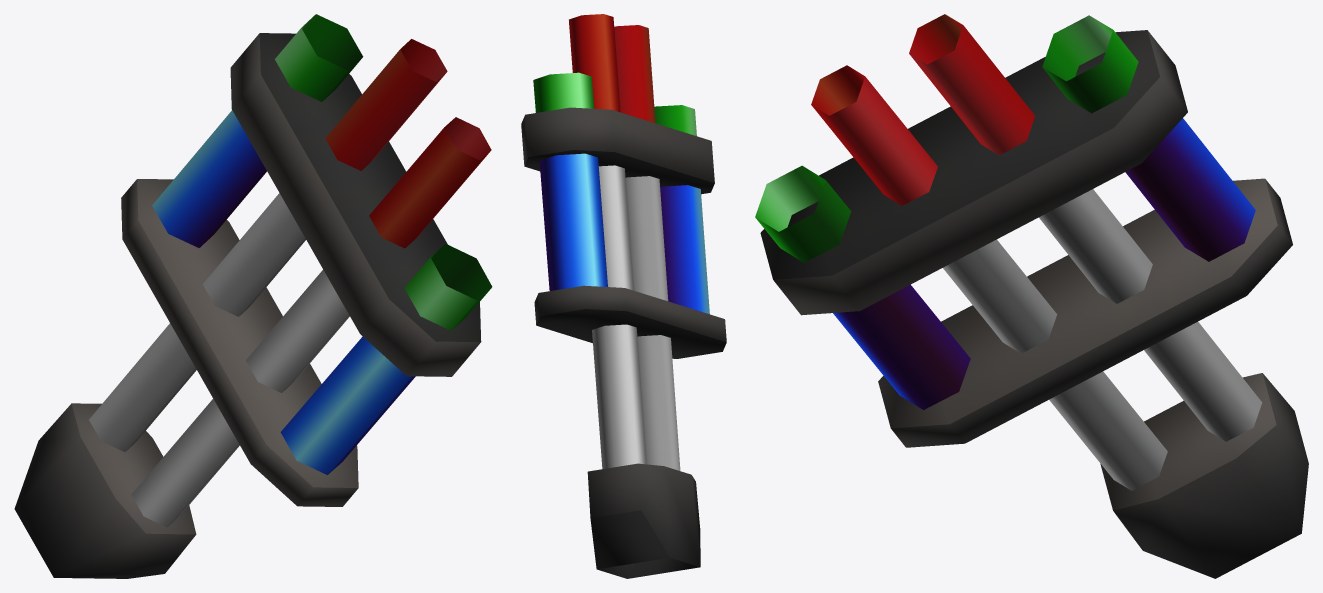
Rendered from F1_Suspension_RR.fbx.
3 views of the same model, side by side, from view 1: azimuth 30°, elevation 25°; view 2: azimuth 150°, elevation 25°; view 3: azimuth 270°, elevation 25° (orthographic). The views are drawn at different scales.
Visible parts, largest first — view 1: F1_Suspension_RR; view 2: F1_Suspension_RR; view 3: F1_Suspension_RR.
Boxes of the visible parts, left/top/right/bottom form: F1_Suspension_RR: left=14, top=14, right=492, bottom=578; F1_Suspension_RR: left=521, top=14, right=726, bottom=578; F1_Suspension_RR: left=755, top=14, right=1308, bottom=578.
Size of the model in its own units: 736 by 1494 by 1159.
